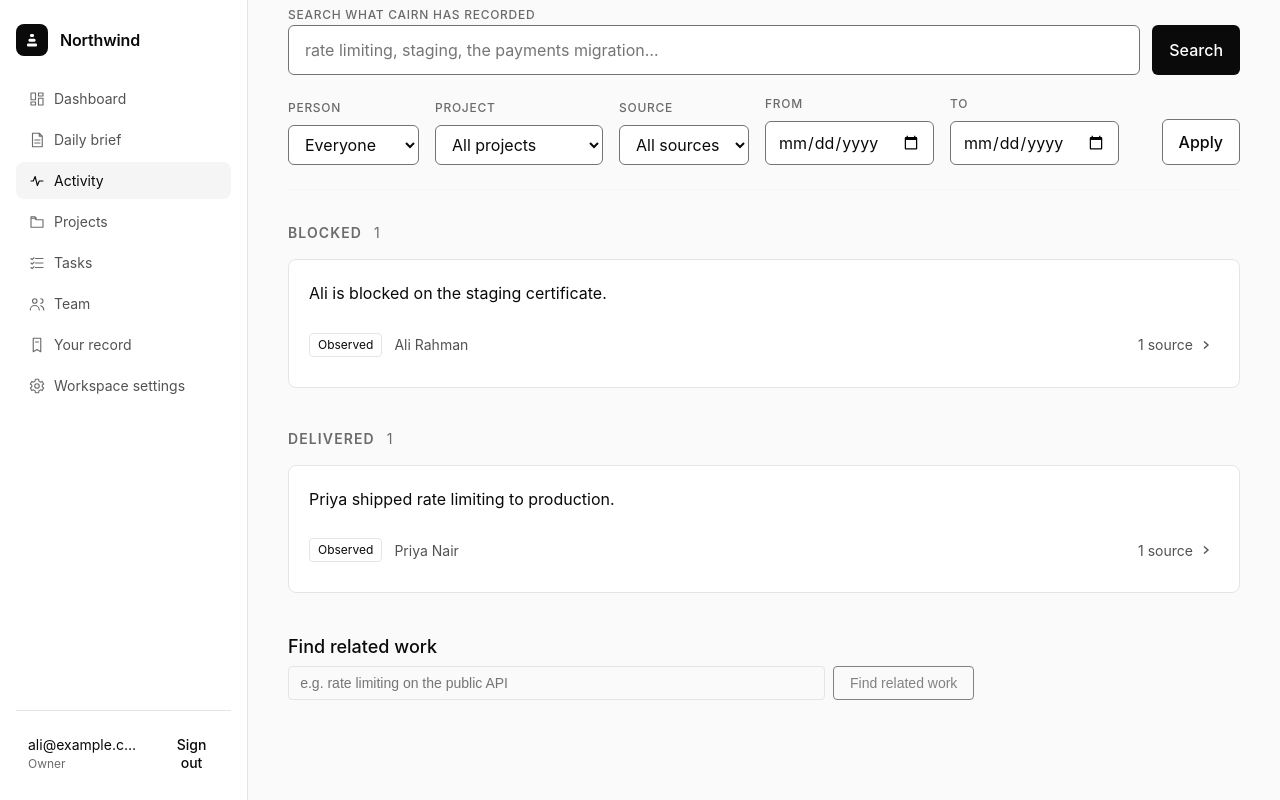
Test: the related-work finder › says that absence is not a fact about anyone
This screenshot has width=1280, height=800.
(page scrolled)
Type "quantum" into the search field named "task or topic to find related work". click: (556, 684)
box: [288,666,825,700]
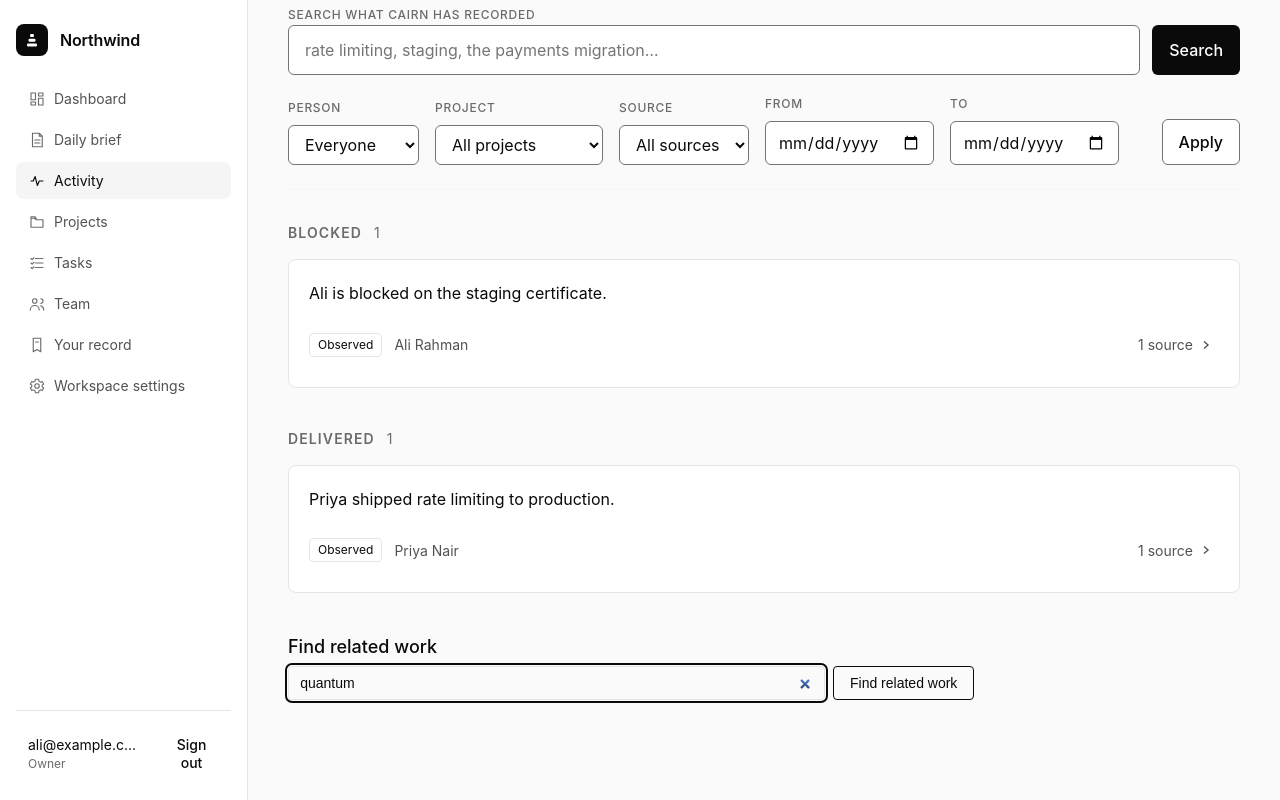
Click the button "Find related work". click: click(904, 684)
box: [833,666,974,700]
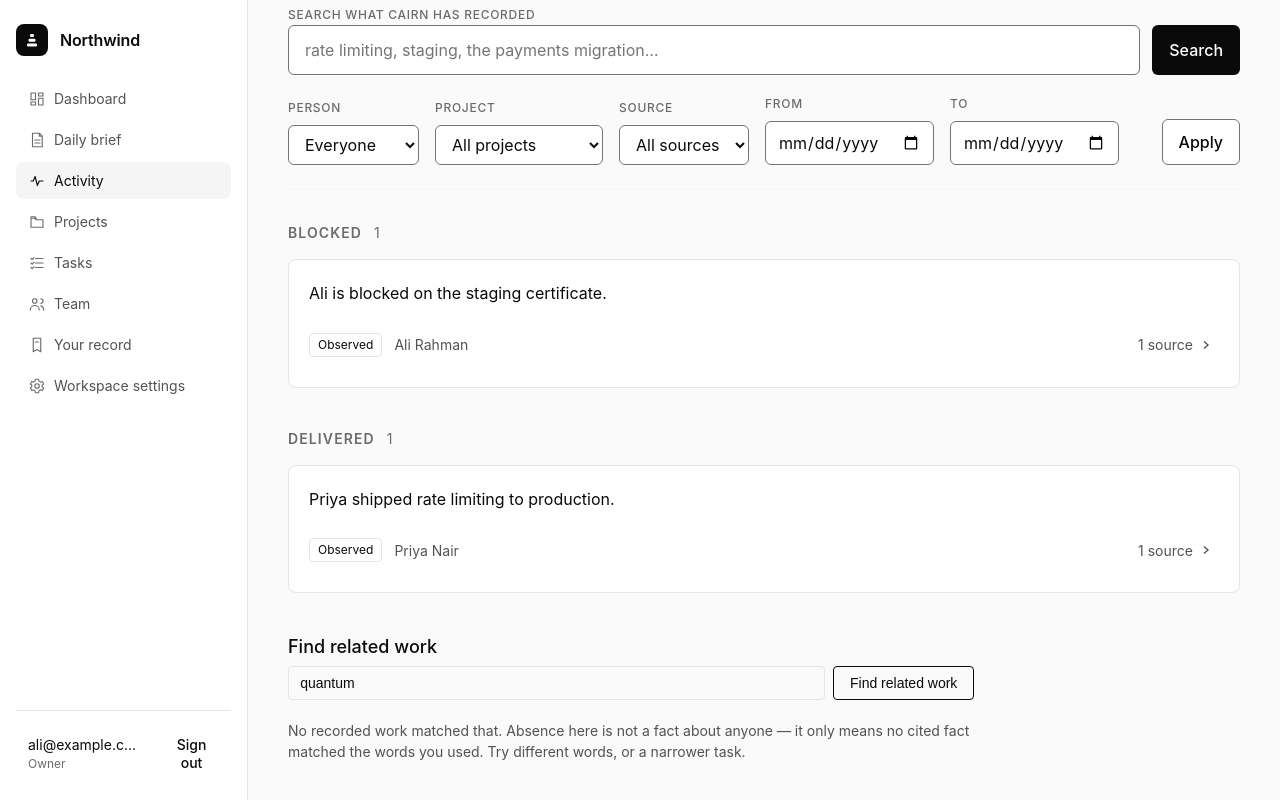
expect the text "Absence here is not a fact about anyone" is shown: met, box [288,722,969,760]
